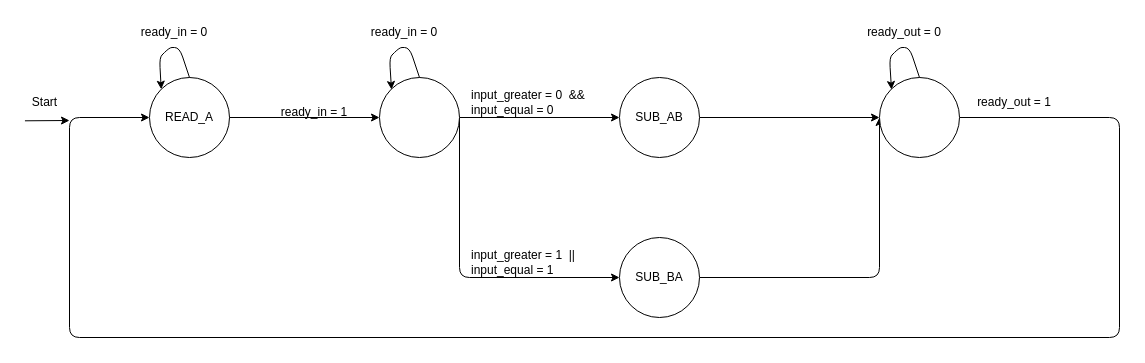
Image size: 1145x363. Some labels were removed from this diagram. The centre of each missing label's shape, as x and y in pixels:
READ_B: point (419, 117)
wait_output: point (919, 117)
